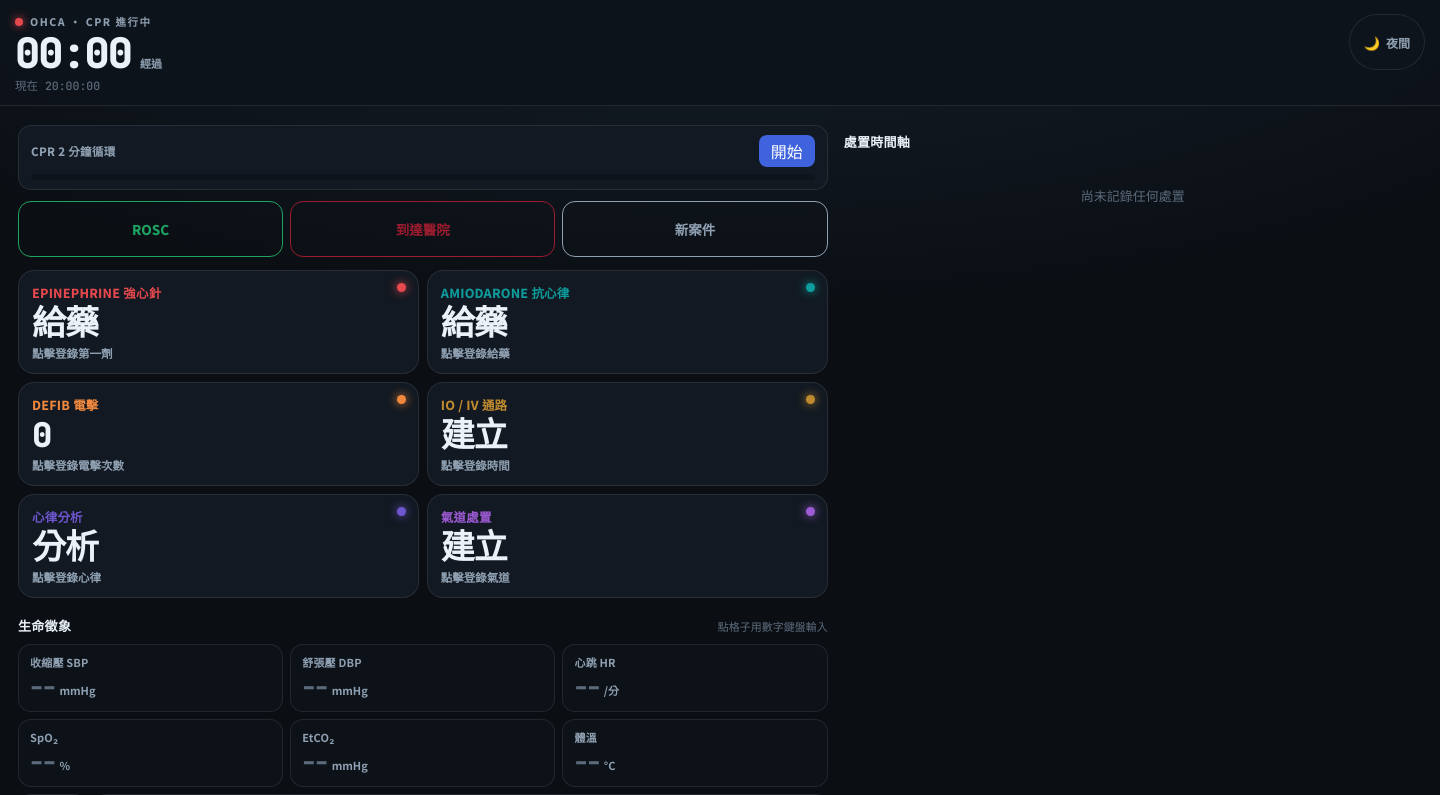
App — FR-017 theme toggle › toggles between dark and light labels
The image size is (1440, 795).
Click the button with aria-label "切換日夜模式" at (1387, 42), box [1349,14,1425,70]
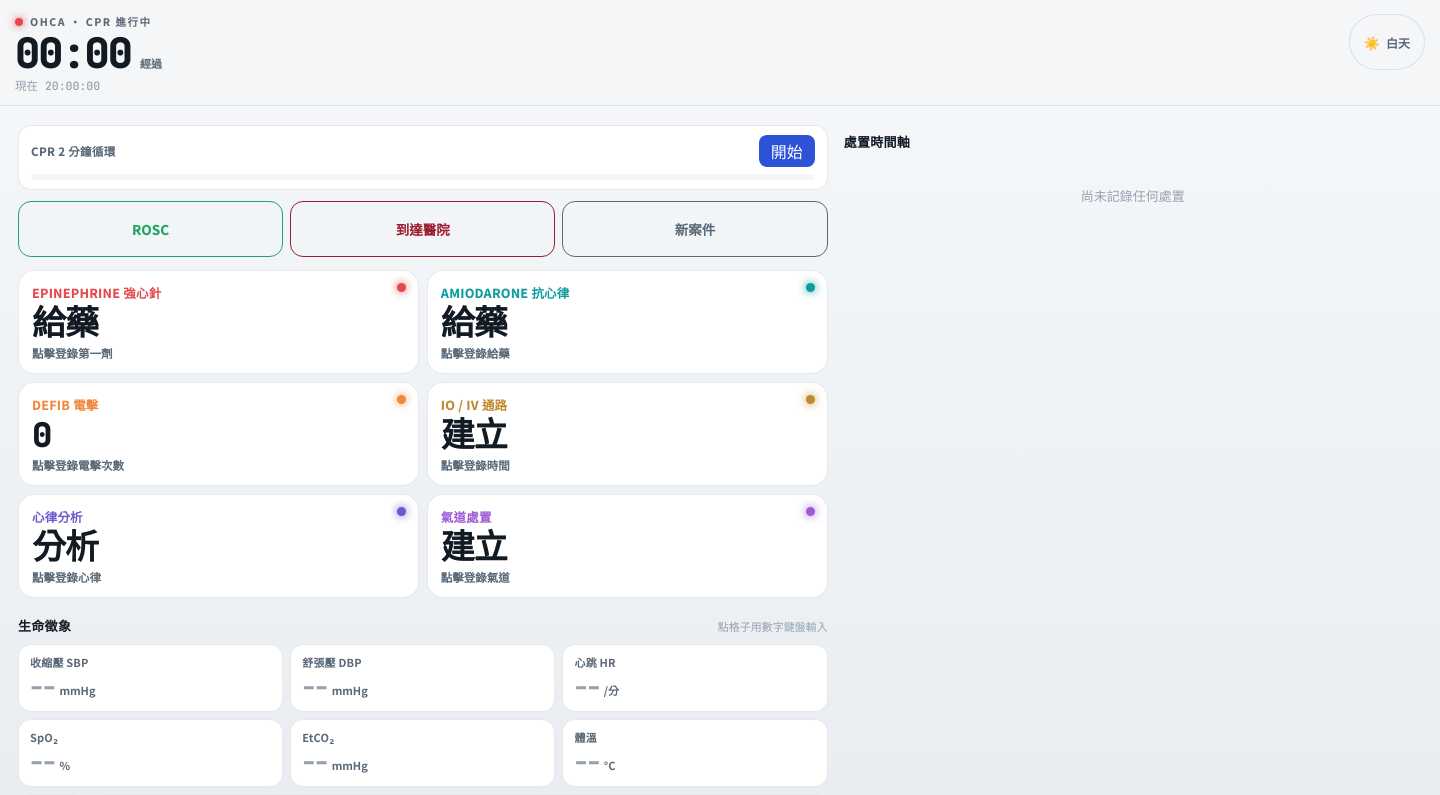
Result: the button "☀️ 白天" is shown at [1349,14,1425,70]
